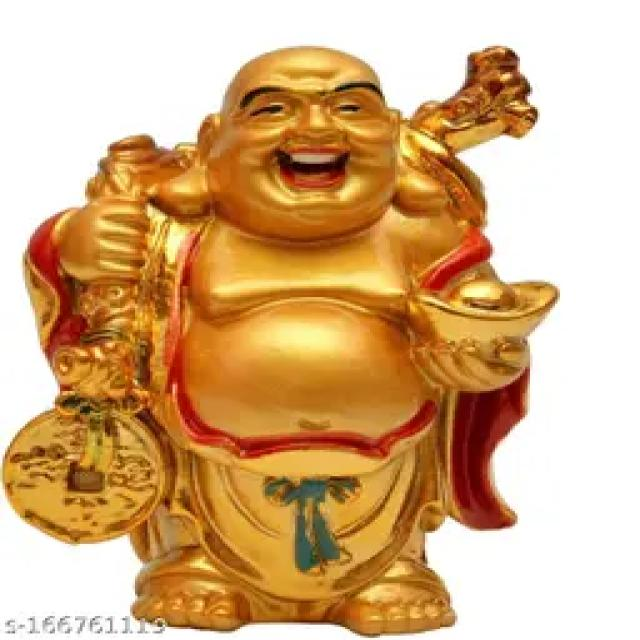Smiling Buddha: (108, 40, 466, 465)
